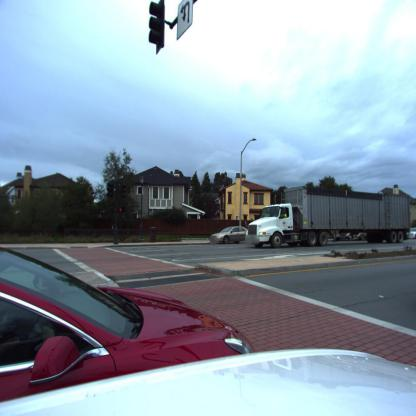car: (0, 264, 416, 416), (210, 226, 247, 245)
traffic light: (148, 1, 166, 54), (120, 206, 124, 214)
truck: (249, 186, 414, 250)
